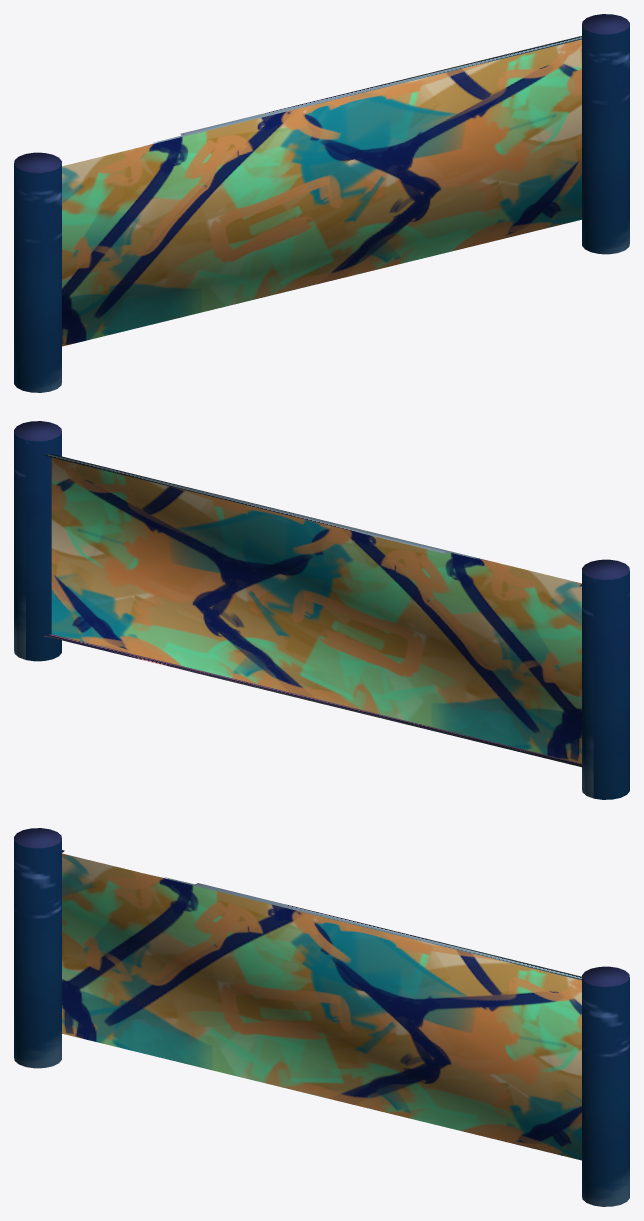
File: PinturaSurreal.fbx
3 renders of one model, top to bottom at view 1: azimuth 30°, elevation 25°; view 2: azimuth 150°, elevation 25°; view 3: azimuth 330°, elevation 25°, orthographic.
Visible parts, largest first — view 1: PinturaSurreal; view 2: PinturaSurreal; view 3: PinturaSurreal.
Boxes of the visible parts, left/top/right/bottom form: PinturaSurreal: left=14, top=14, right=629, bottom=392; PinturaSurreal: left=14, top=421, right=629, bottom=799; PinturaSurreal: left=14, top=828, right=629, bottom=1206.
Size of the model in its own units: 1270 by 87.53 by 438.
